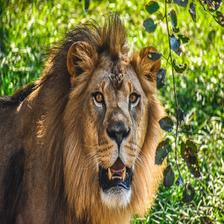lions: (8, 10, 179, 224)
